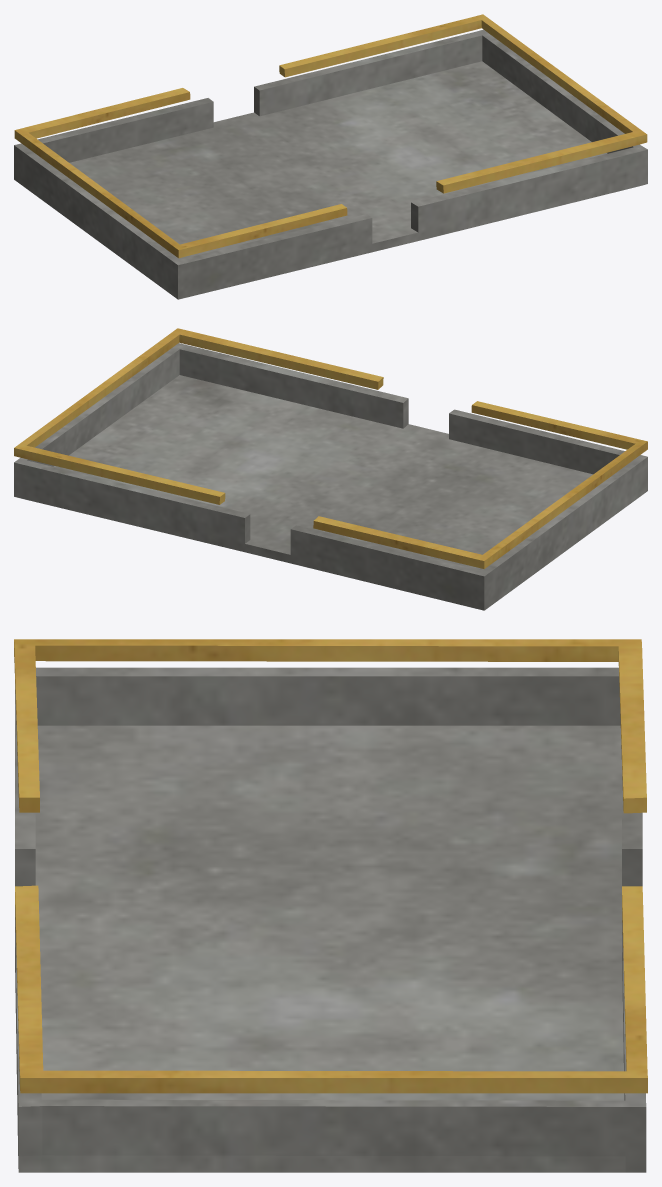
Rendered from WalkingBridge3.fbx.
The picture shows the model from 3 angles, top to bottom: view 1: azimuth 30°, elevation 25°; view 2: azimuth 150°, elevation 25°; view 3: azimuth 270°, elevation 25°; orthographic projection. The views are drawn at different scales.
Visible parts, largest first — view 1: WalkingBridge3; view 2: WalkingBridge3; view 3: WalkingBridge3.
Part boxes in pixels (x1,y1,x2,y2): WalkingBridge3: (14, 14, 647, 299); WalkingBridge3: (14, 328, 647, 610); WalkingBridge3: (14, 639, 647, 1172).
Bounding box in the file's own units: 948 × 1555 × 156.
